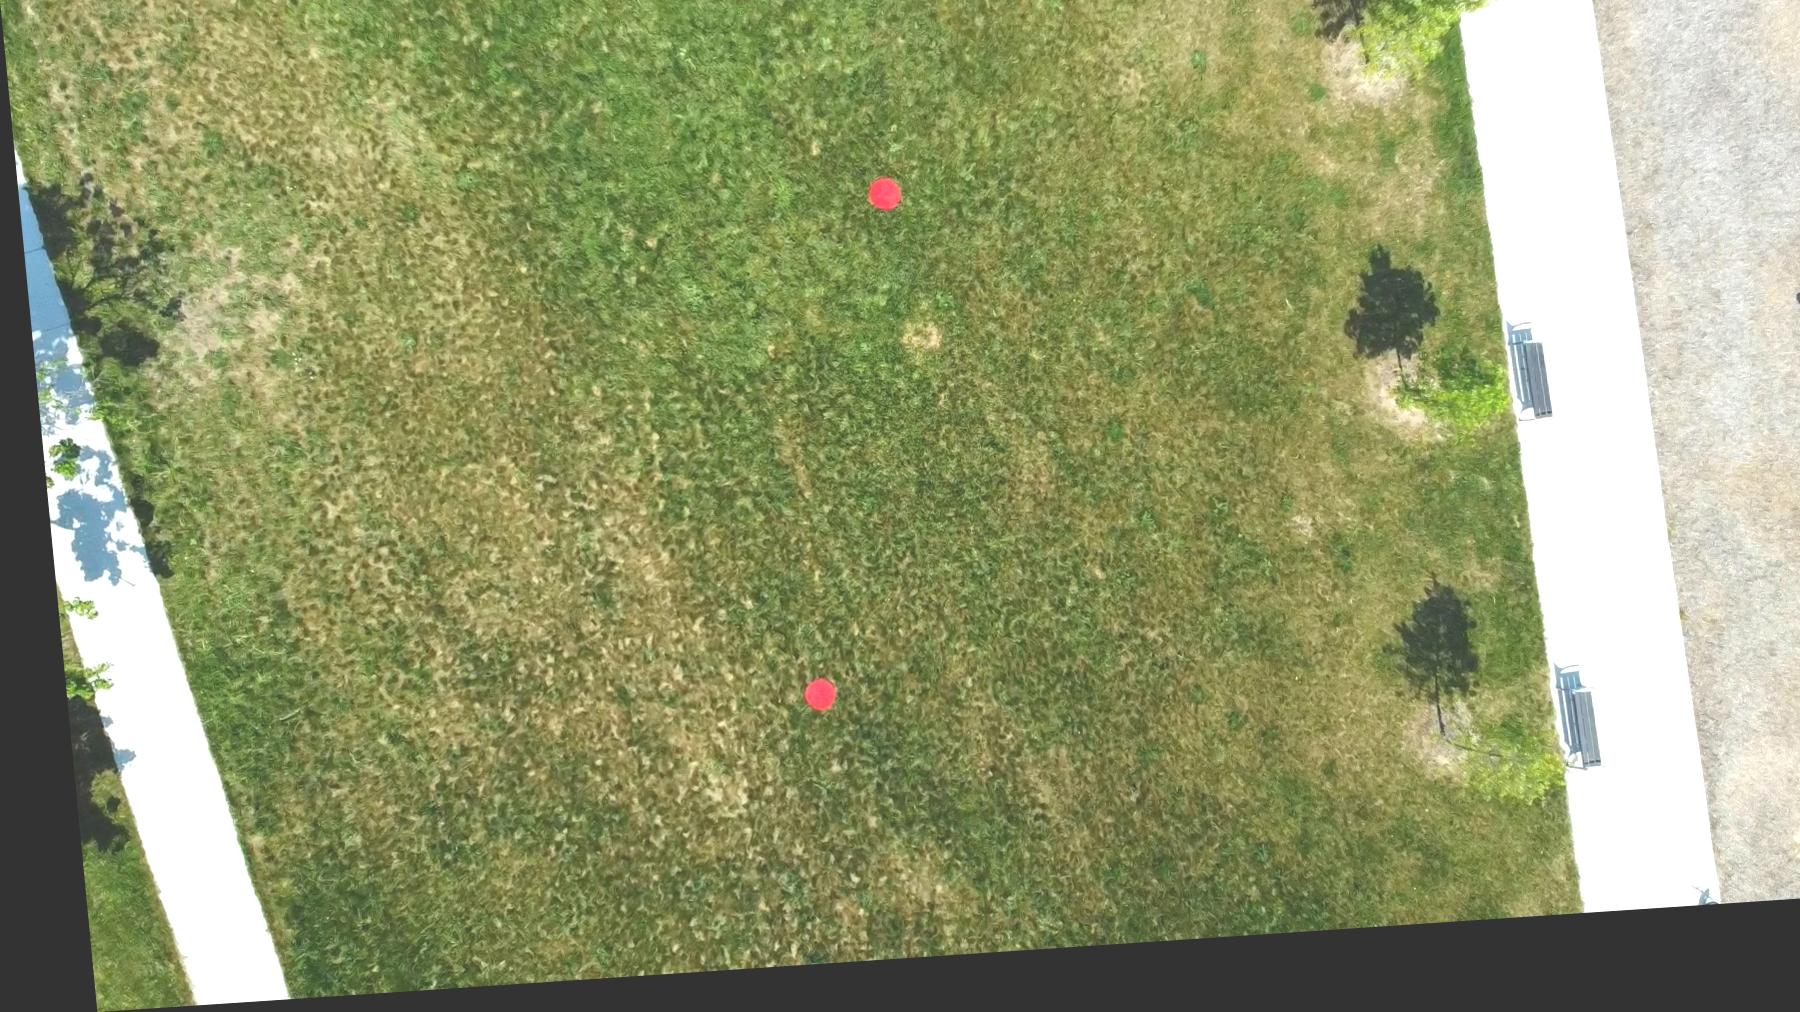Red: (859, 187, 900, 226), (786, 686, 825, 724)
